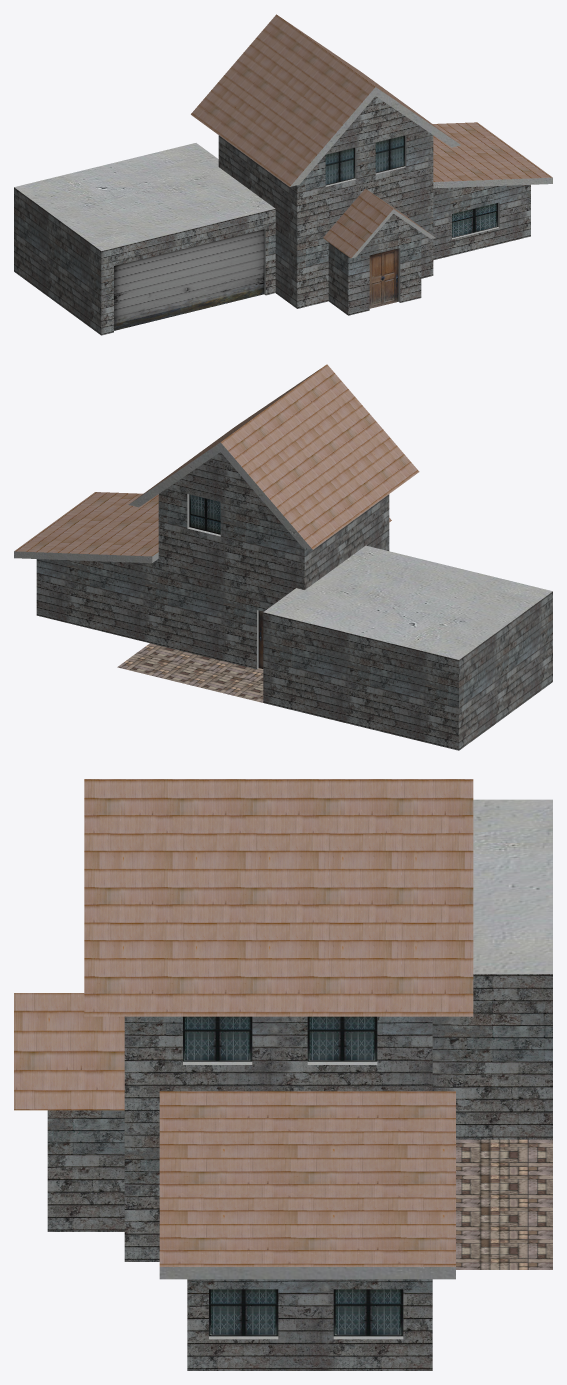
File: stoneHouse.fbx
3 views of the same model, one above another, from view 1: azimuth 30°, elevation 25°; view 2: azimuth 150°, elevation 25°; view 3: azimuth 270°, elevation 25° (orthographic). The views are drawn at different scales.
Visible parts, largest first — view 1: house1, garage_door2; view 2: house1, tiles1; view 3: house1, tiles1.
Part boxes in pixels (<box>): house1: <box>14,14,552,335</box>; garage_door2: <box>114,229,264,330</box>; house1: <box>14,364,552,750</box>; tiles1: <box>117,643,263,702</box>; house1: <box>14,779,552,1370</box>; tiles1: <box>456,1139,552,1269</box>.
Size of the model in its own units: 0.2174 by 0.1009 by 0.1179.
